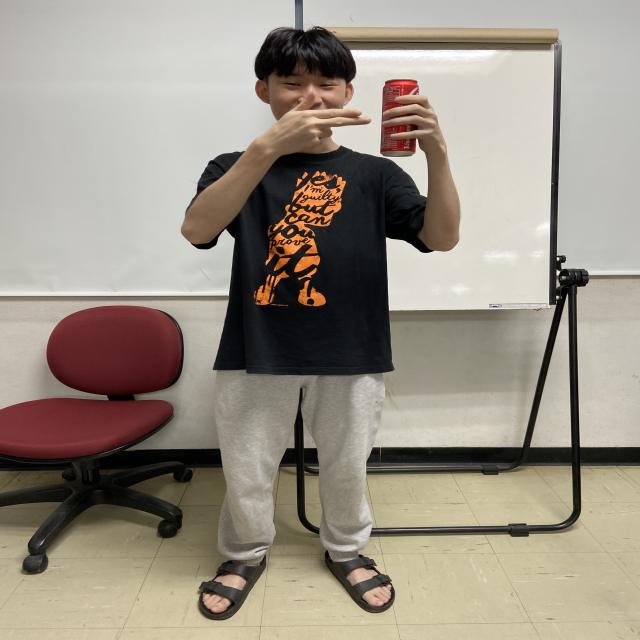can: (379, 77, 420, 159)
